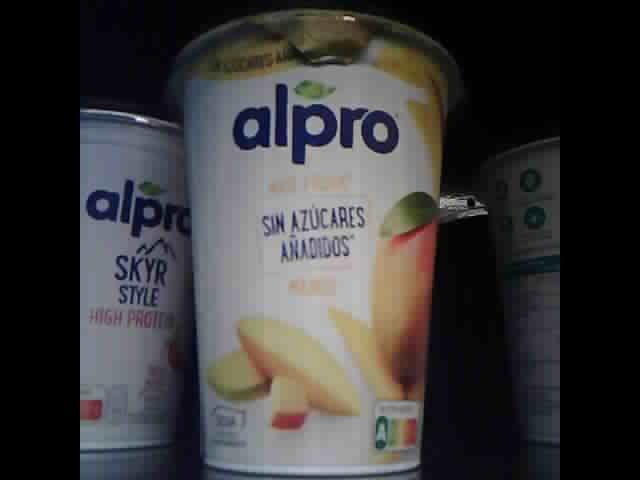alpro: (167, 8, 458, 477), (80, 100, 197, 454), (475, 135, 561, 476)
